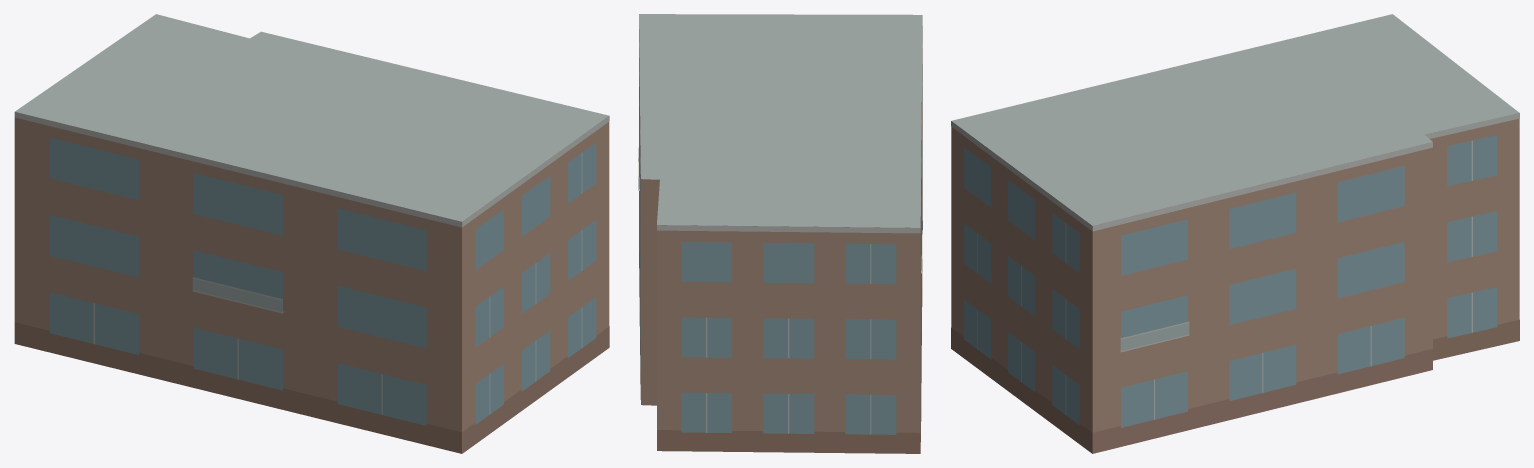
The model's file is survey-upis-32610967.glb.
The picture shows the model from 3 angles, left to right: view 1: azimuth 30°, elevation 25°; view 2: azimuth 150°, elevation 25°; view 3: azimuth 270°, elevation 25°; orthographic projection. The views are drawn at different scales.
Visible parts, largest first — view 1: survey-upis-32610967.tmp; view 2: survey-upis-32610967.tmp; view 3: survey-upis-32610967.tmp.
Boxes of the visible parts, left/top/right/bottom form: survey-upis-32610967.tmp: left=14, top=14, right=609, bottom=453; survey-upis-32610967.tmp: left=638, top=14, right=922, bottom=453; survey-upis-32610967.tmp: left=951, top=14, right=1519, bottom=453.
Size of the model in its own units: 19.74 by 9.9 by 22.39.
